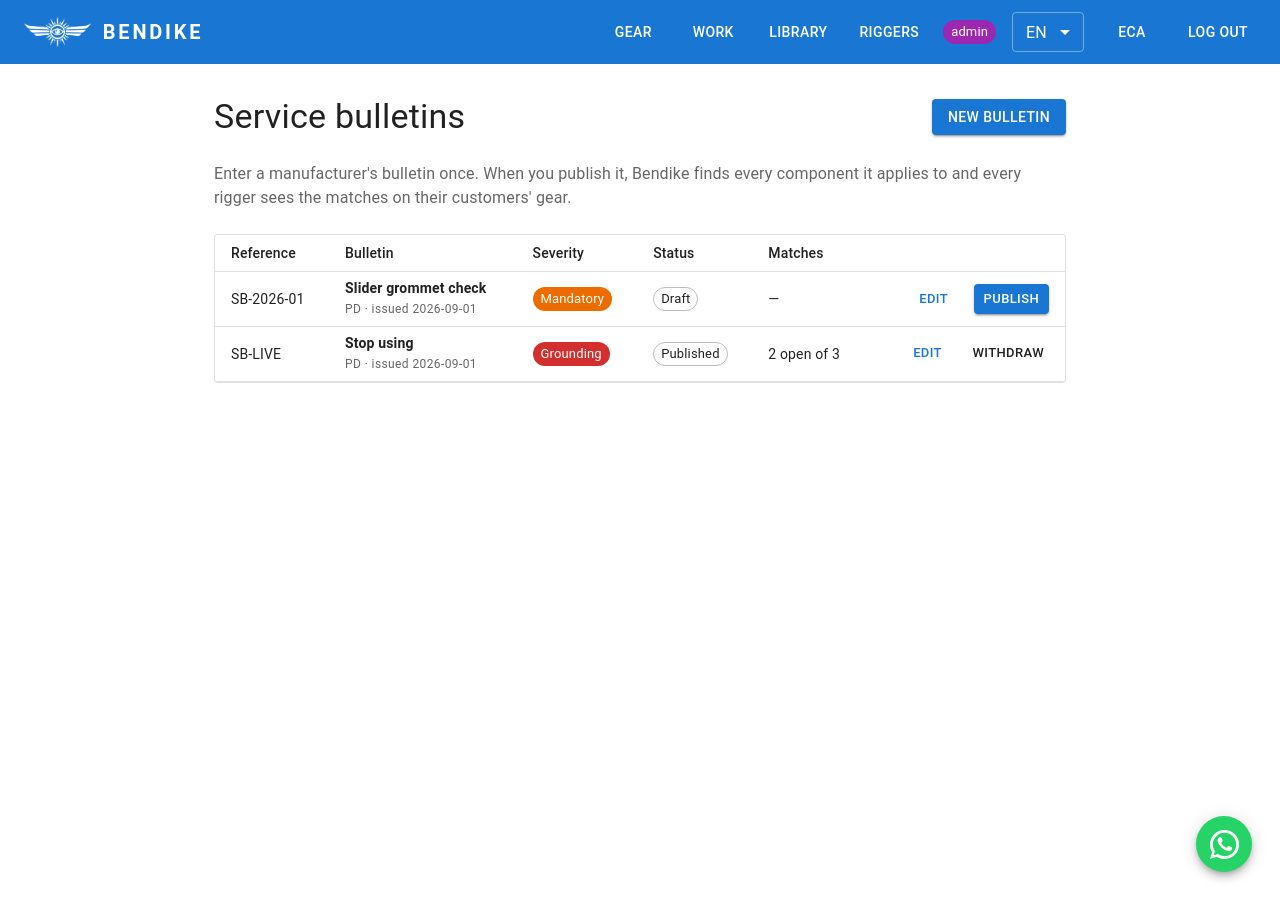
Test: BulletinsPage › publishing reports how many components it matched
Click the button "Publish". click: (1011, 299)
box: [974,284,1049,314]
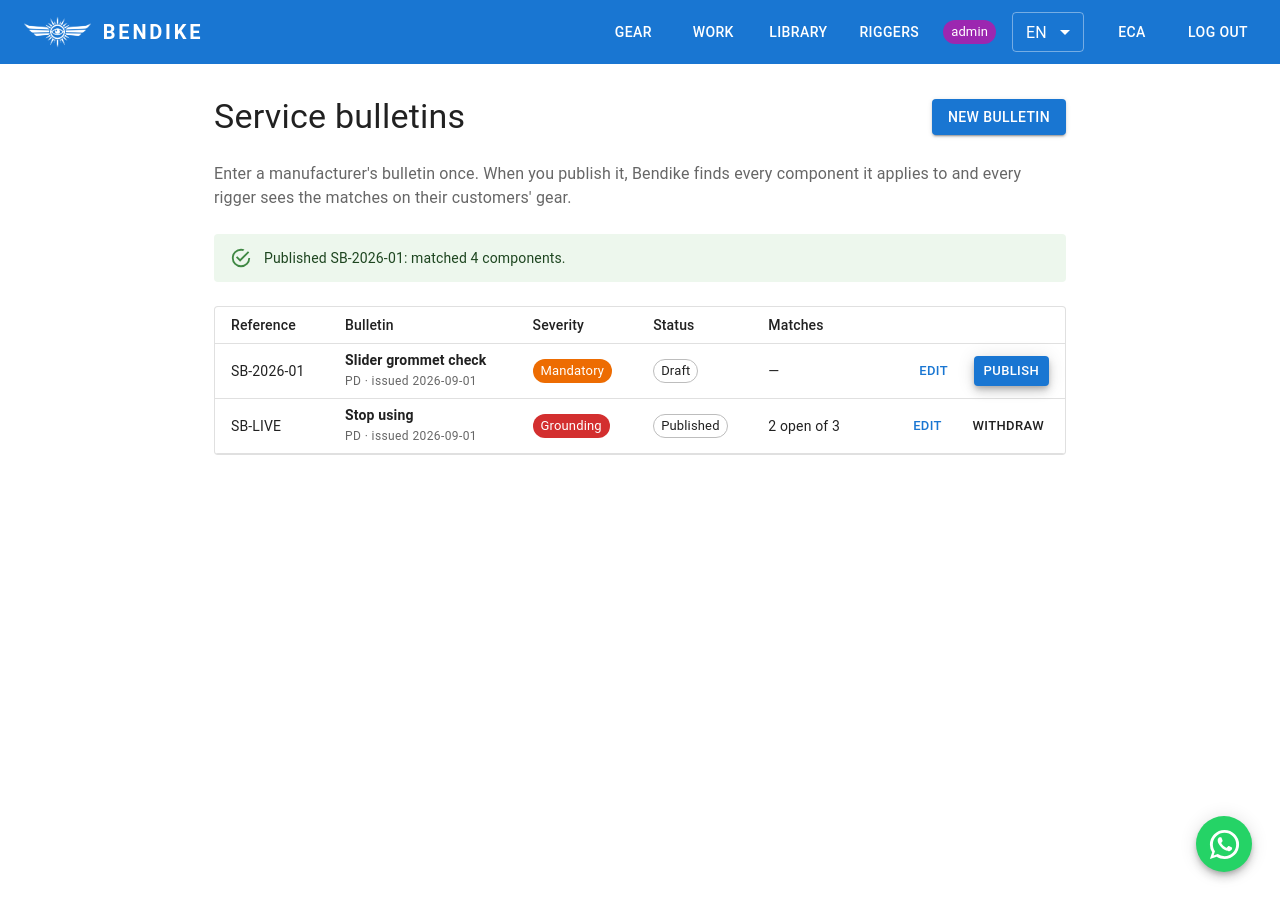
Expected: the text "Published SB-2026-01: matched 4 components." is shown, [264,250,566,266]
